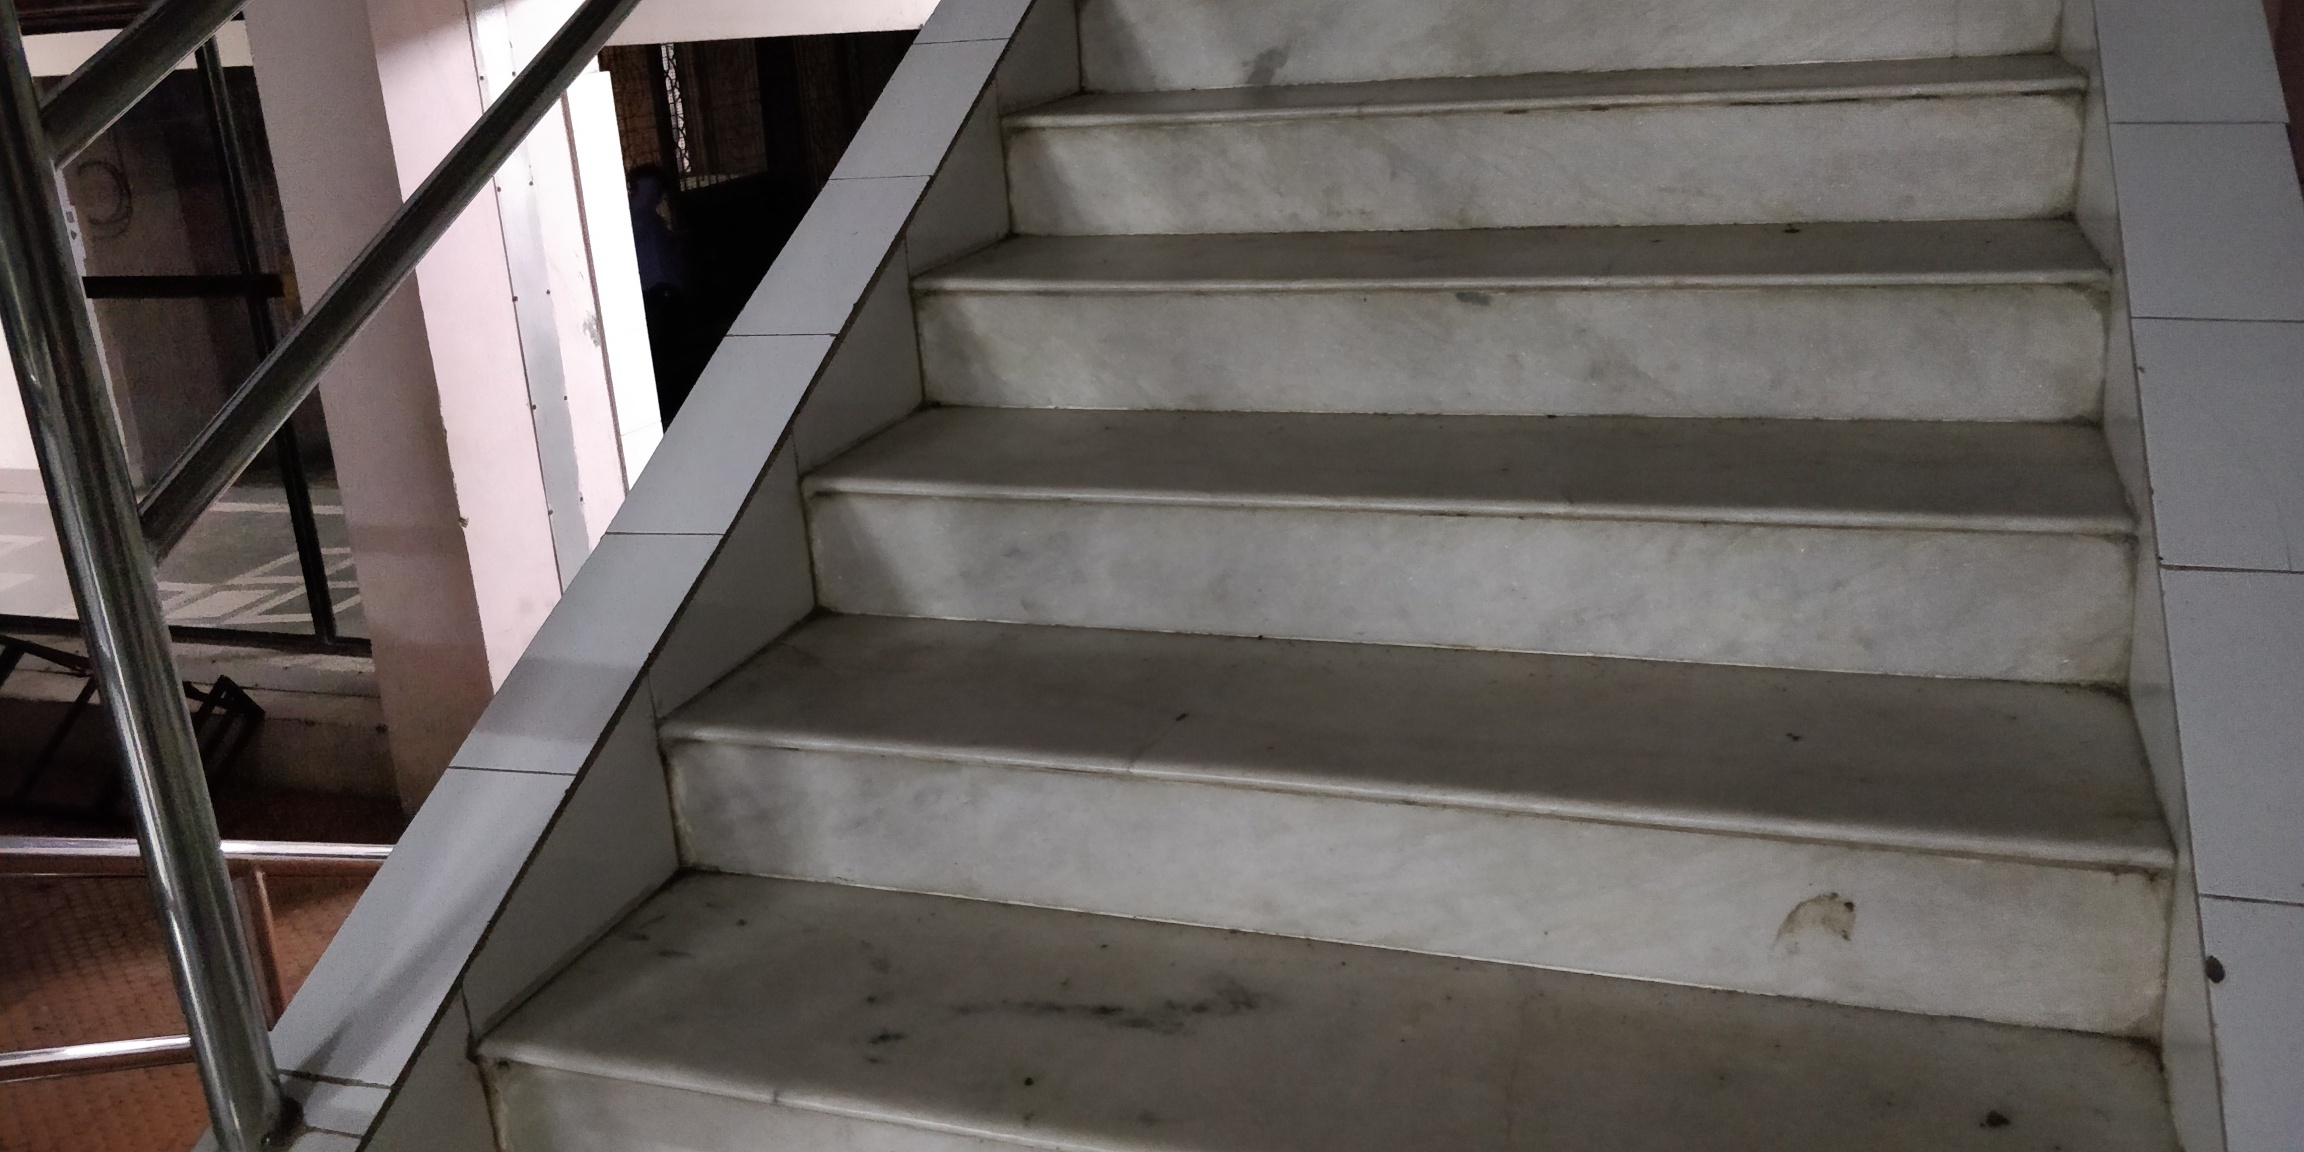stairs_up: (386, 50, 2197, 1152)
